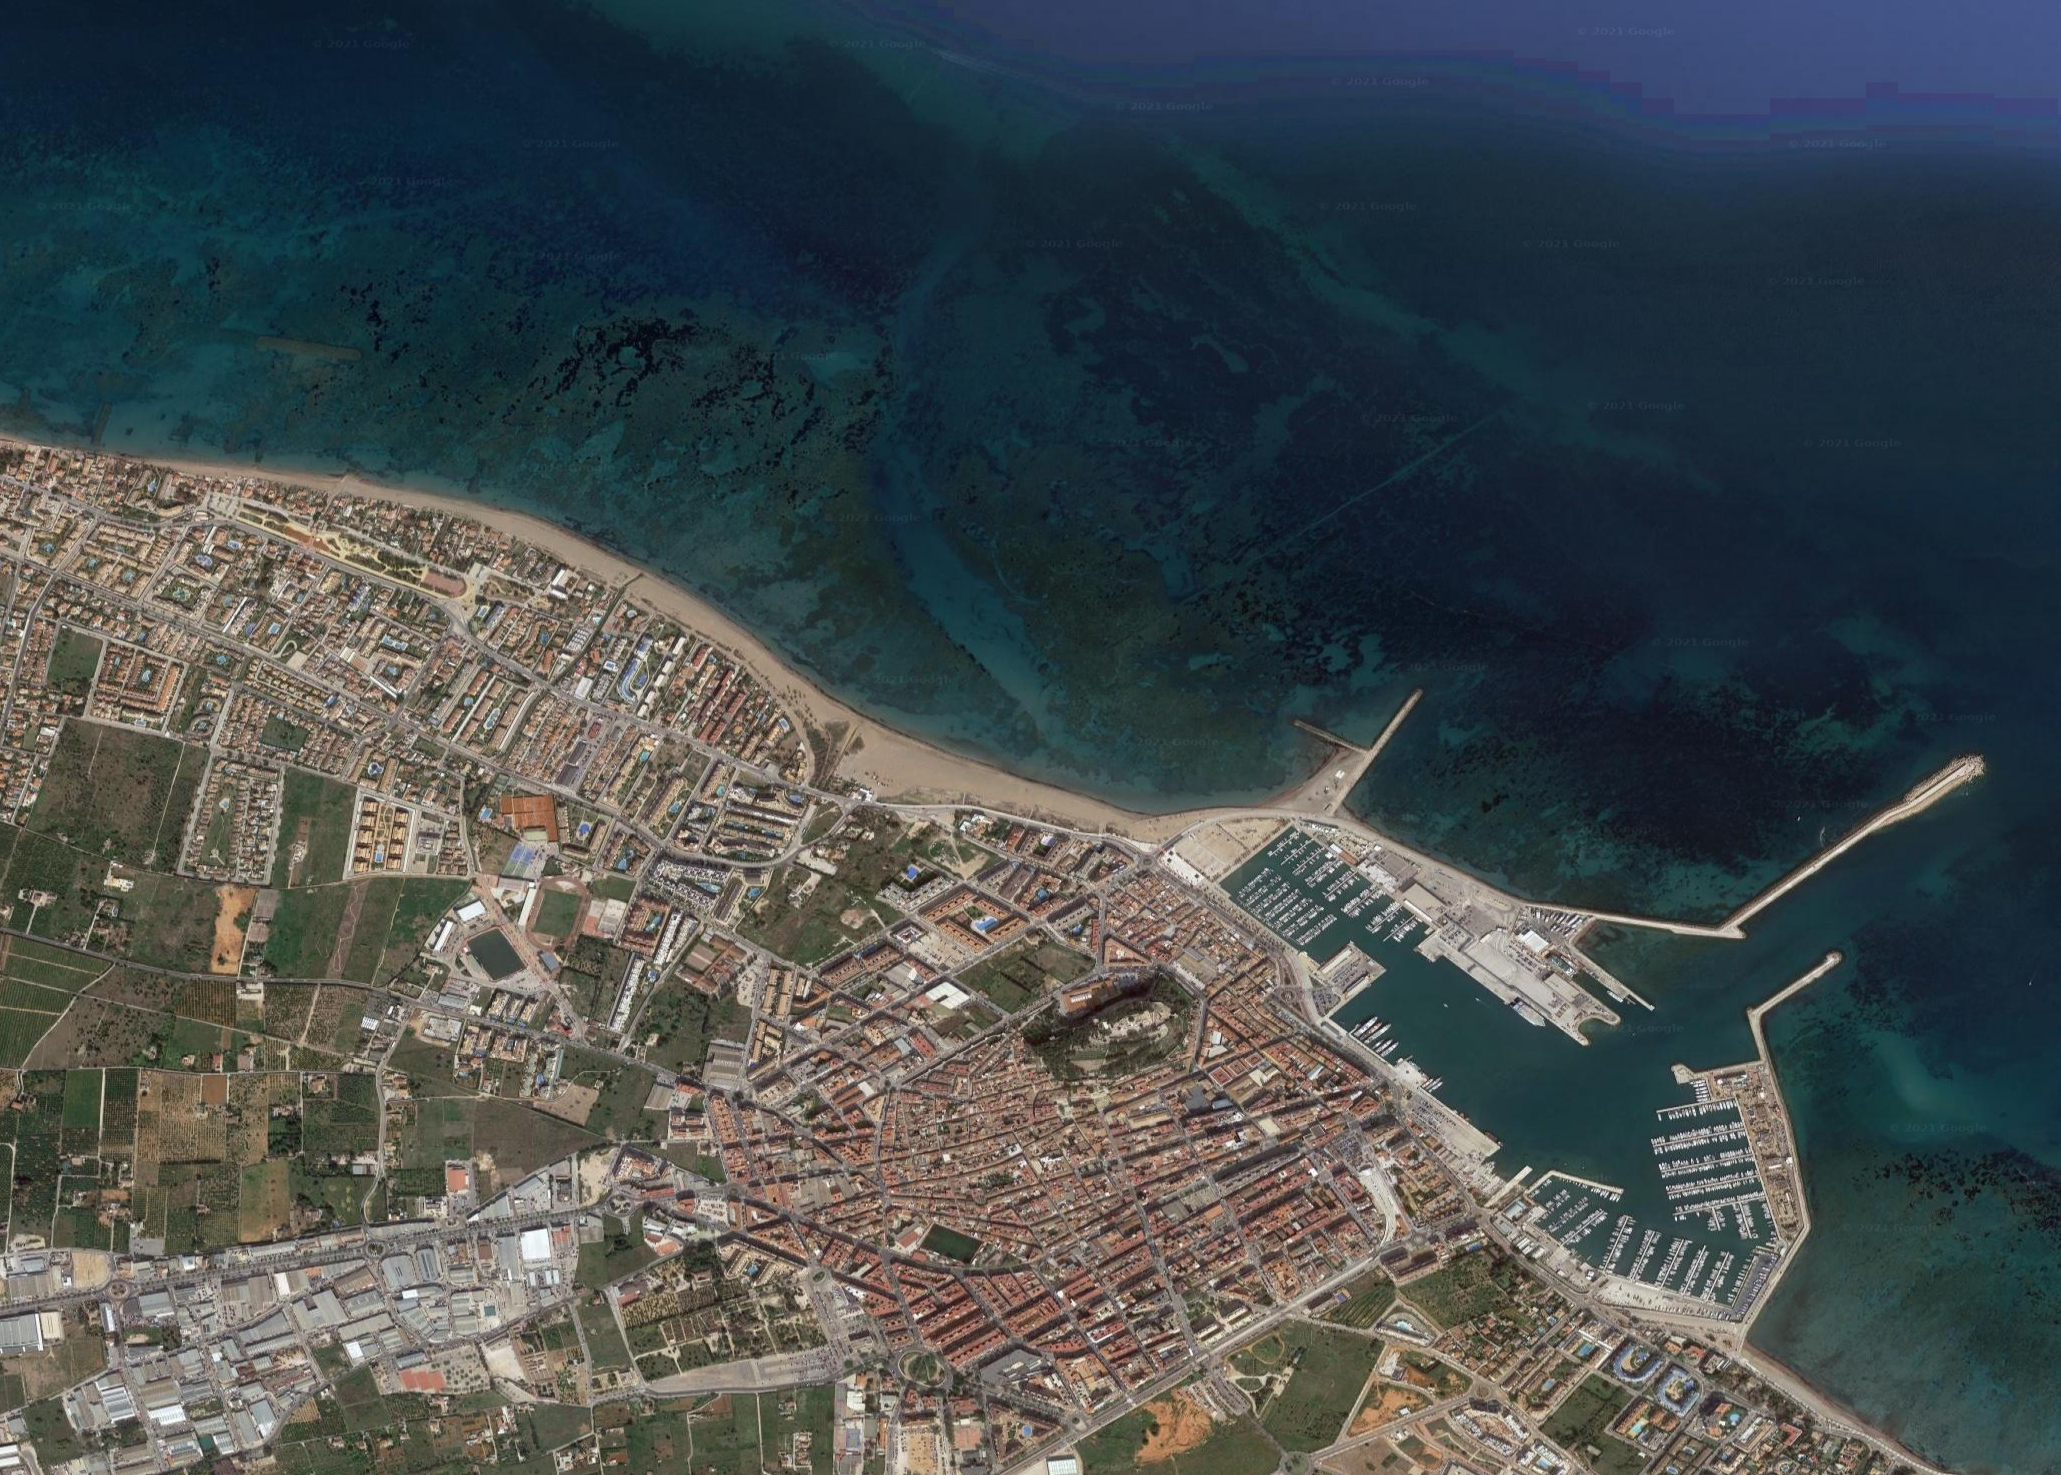harbor: (1197, 650, 1996, 1362)
industrial: (2, 1169, 576, 1475)
